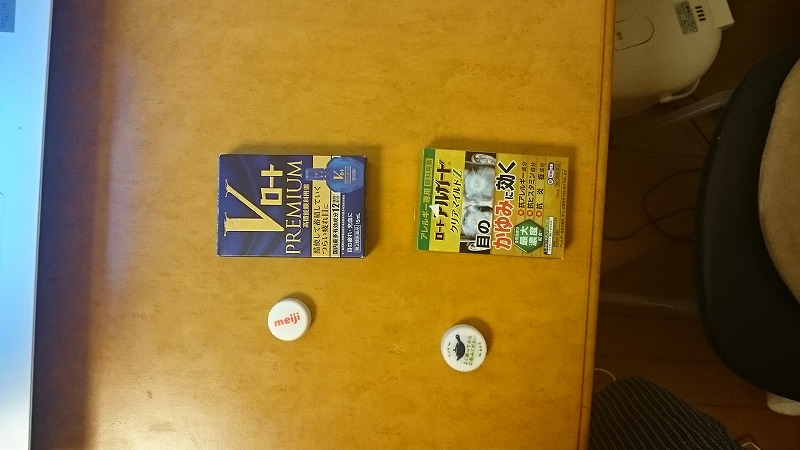A: (440, 321, 497, 376)
B: (262, 291, 318, 344)
C: (406, 144, 576, 264)
D: (211, 150, 369, 264)
